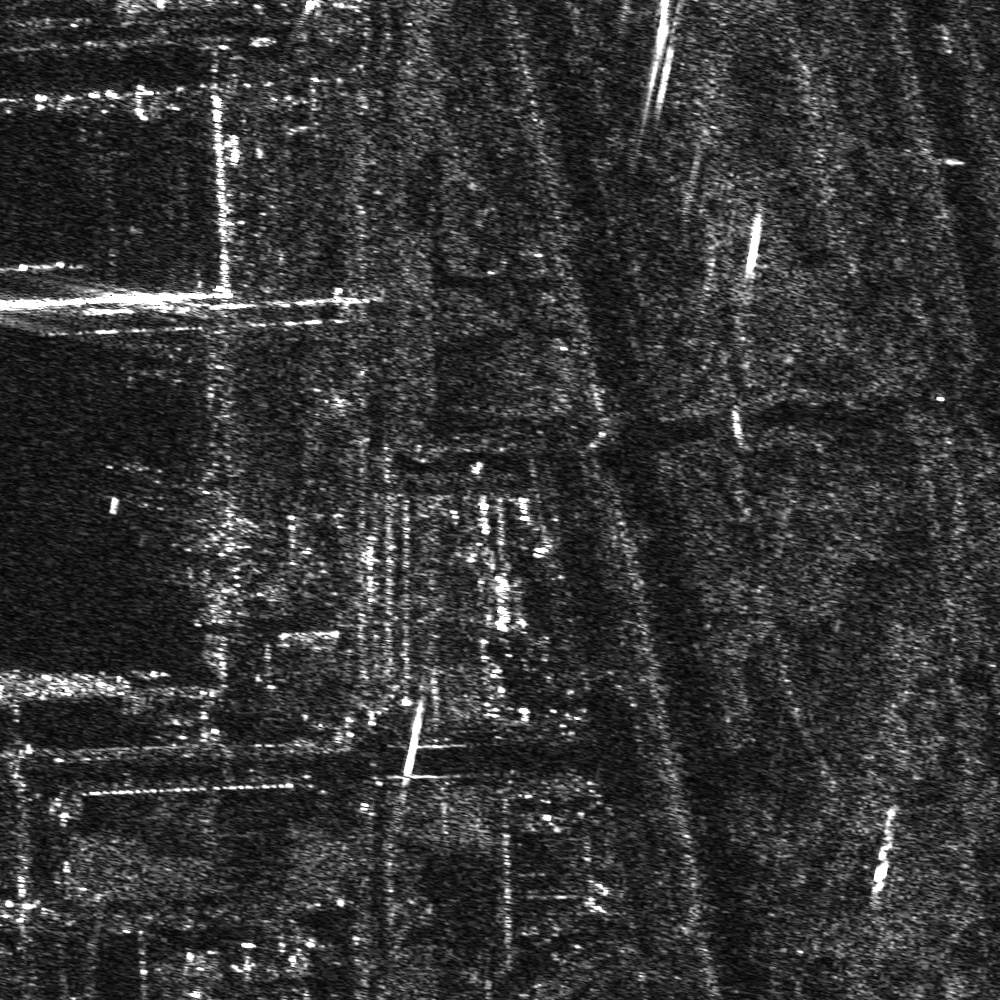A220: (105, 448, 169, 513)
